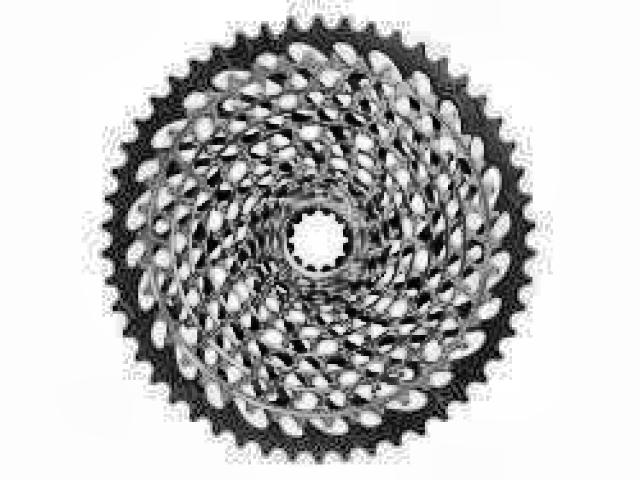cassette: (103, 14, 536, 464)
